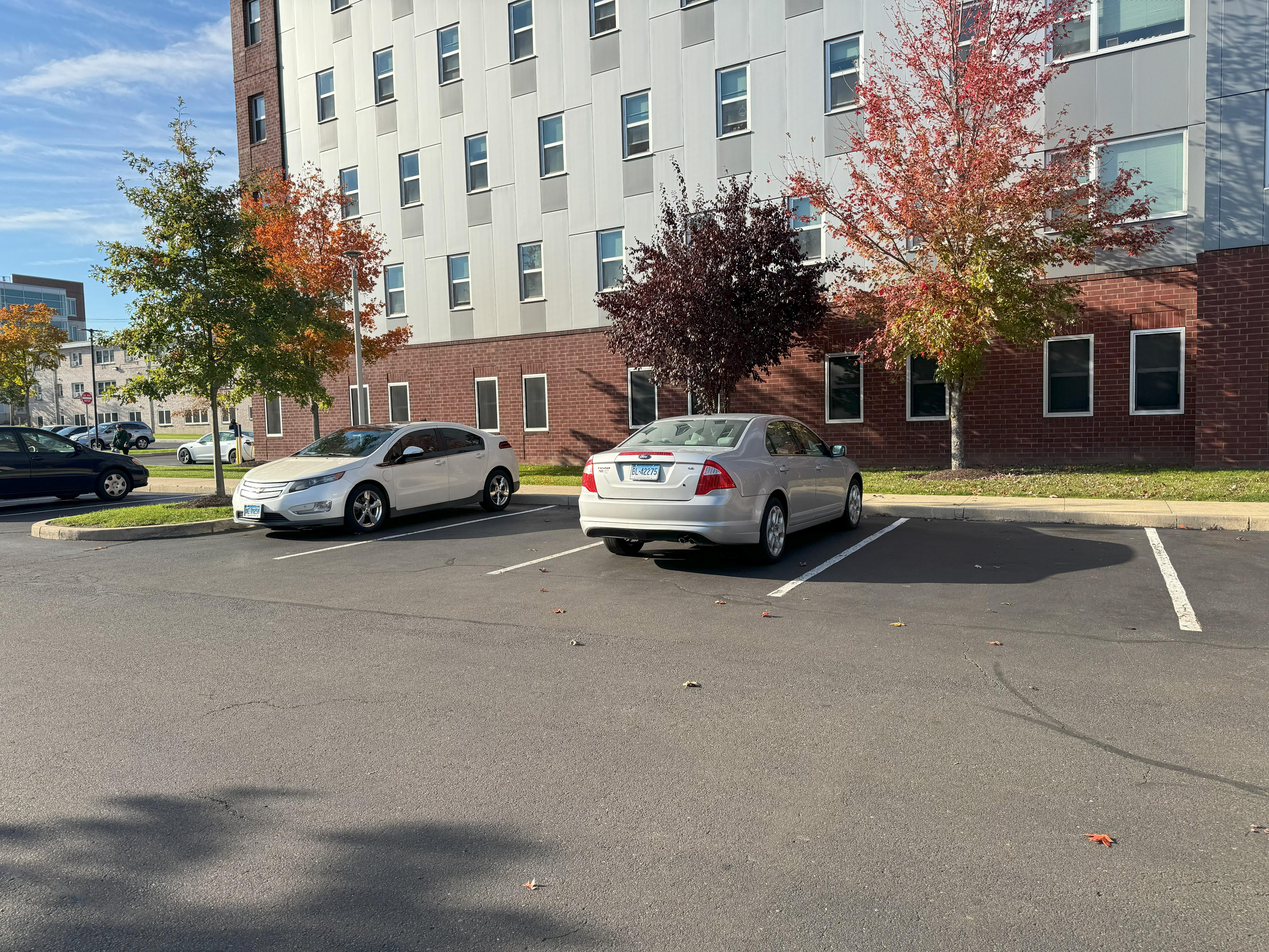empty: (900, 529, 1162, 629), (405, 527, 565, 567)
occupied: (567, 403, 875, 570), (229, 398, 498, 519)
